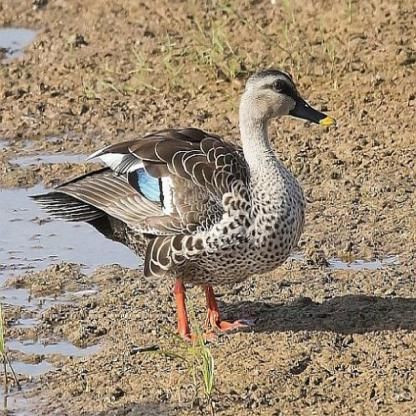Burung: (27, 69, 337, 336)
